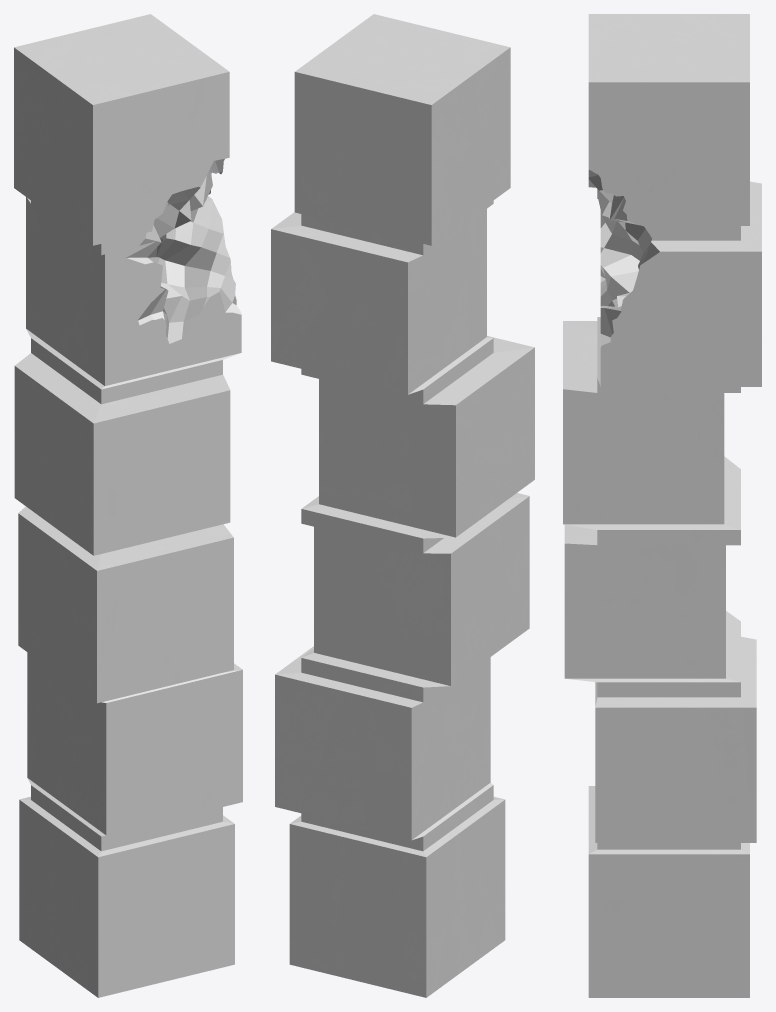
File: Pillar_WhiteBox_Broken.fbx
The picture shows the model from 3 angles, left to right: view 1: azimuth 30°, elevation 25°; view 2: azimuth 150°, elevation 25°; view 3: azimuth 270°, elevation 25°; orthographic projection. The views are drawn at different scales.
Parts seen in each view (by area): view 1: Pillar_Square_White.001; view 2: Pillar_Square_White.001; view 3: Pillar_Square_White.001.
Part boxes in pixels (x1,y1,x2,y2): Pillar_Square_White.001: (14, 14, 242, 997); Pillar_Square_White.001: (271, 14, 534, 997); Pillar_Square_White.001: (563, 14, 761, 997).
Bounding box in the file's own units: 94.33 × 485 × 95.62.
Materials: 1 (1 with a texture image).
